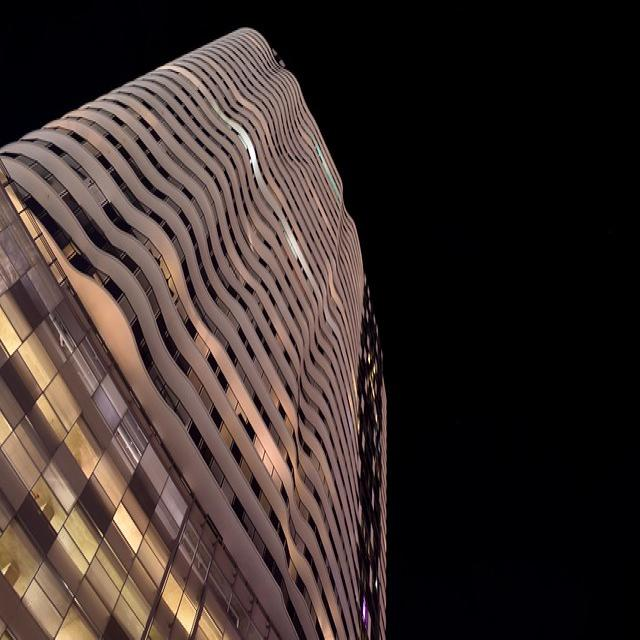building: (0, 22, 392, 630)
